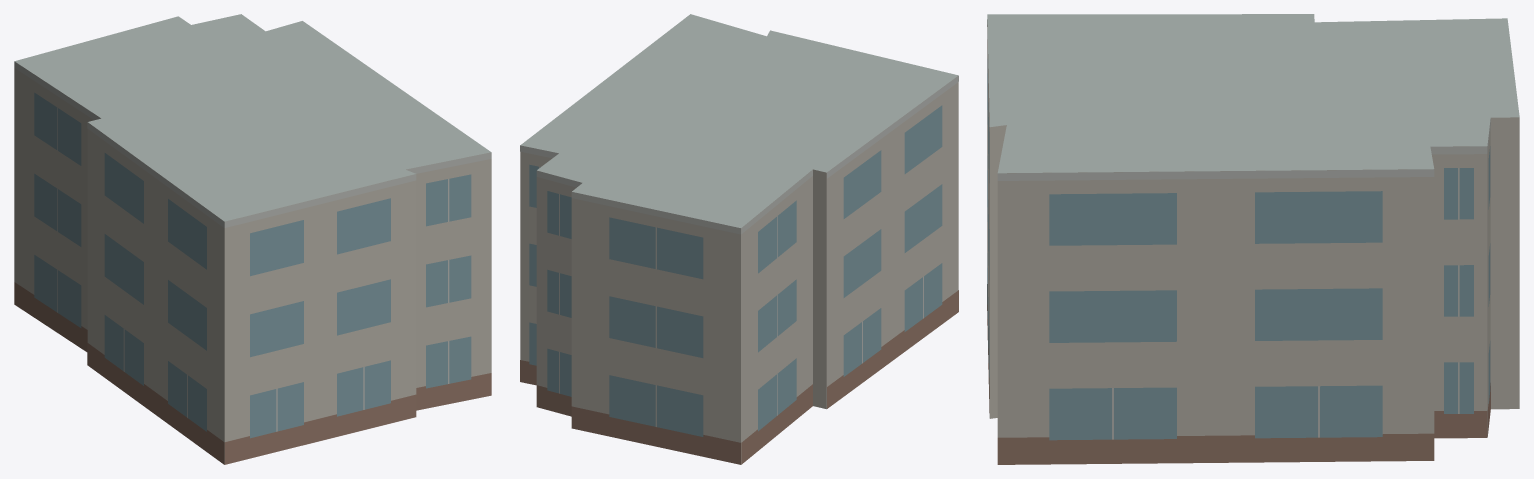
Rendered from survey-upis-32498548.glb.
3 views of the same model, side by side, from view 1: azimuth 30°, elevation 25°; view 2: azimuth 150°, elevation 25°; view 3: azimuth 270°, elevation 25° (orthographic). The views are drawn at different scales.
Parts seen in each view (by area): view 1: survey-upis-32498548.tmp; view 2: survey-upis-32498548.tmp; view 3: survey-upis-32498548.tmp.
Boxes of the visible parts, x1,y1,x2,y2 form: survey-upis-32498548.tmp: [14, 14, 491, 464]; survey-upis-32498548.tmp: [520, 14, 958, 464]; survey-upis-32498548.tmp: [987, 14, 1519, 464].
Size of the model in its own units: 10.66 by 9.1 by 15.07.
